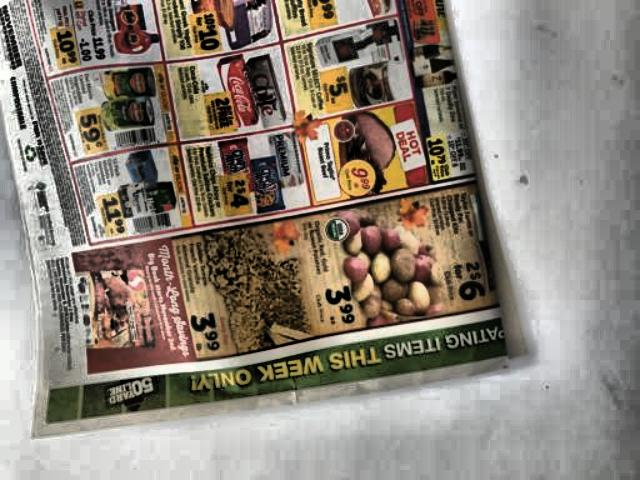Paper: (0, 0, 515, 446)
